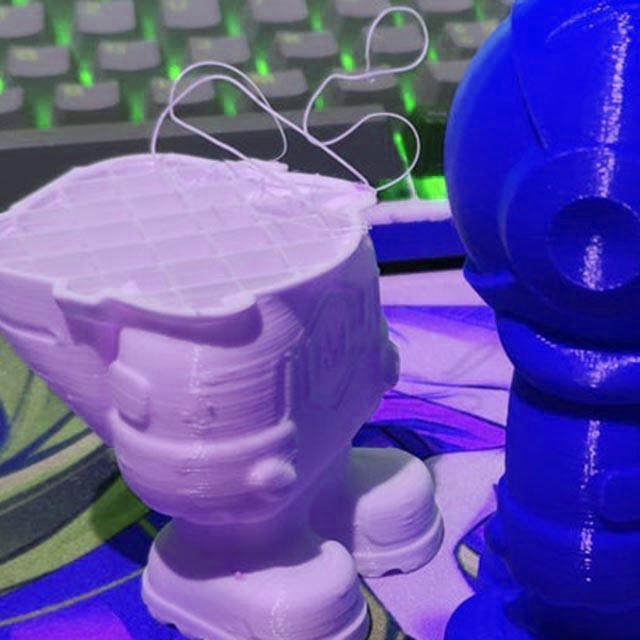spaghetti: (149, 5, 432, 199)
